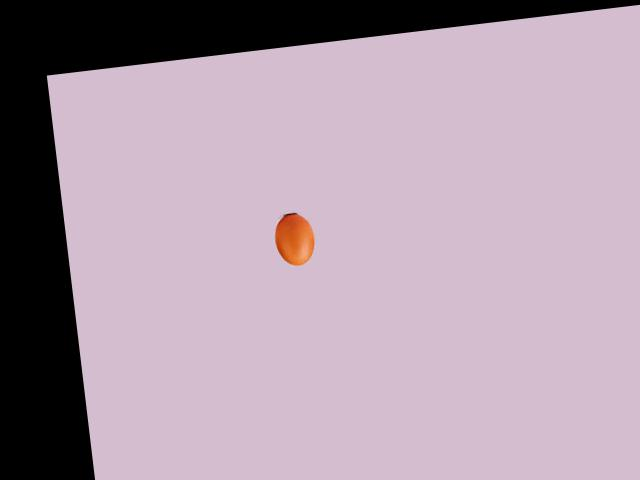egg: (272, 211, 316, 268)
